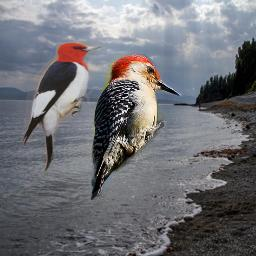Woodpecker: (91, 54, 185, 200), (21, 41, 102, 172)
